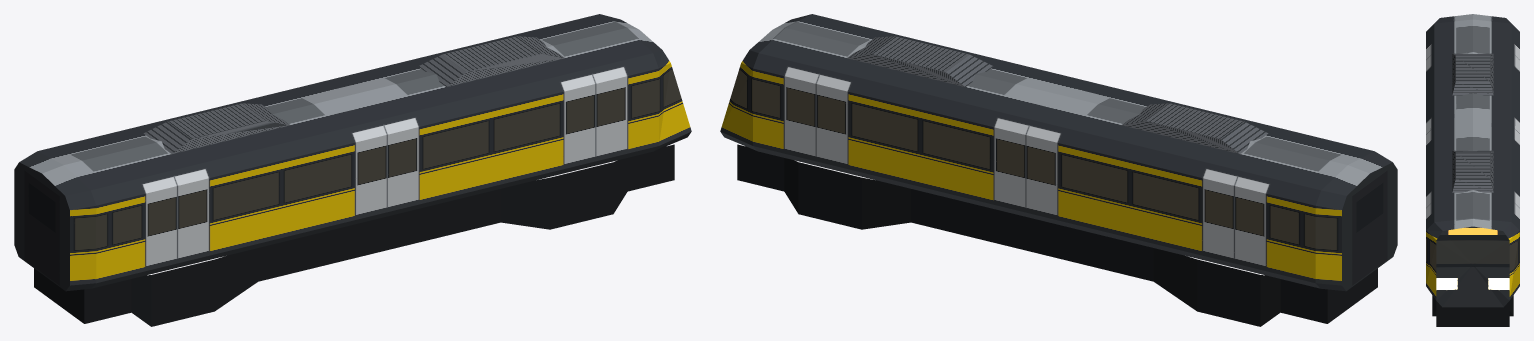
The model's file is bvg_kleinprofil__cab.glb.
3 renders of one model, left to right at view 1: azimuth 30°, elevation 25°; view 2: azimuth 150°, elevation 25°; view 3: azimuth 270°, elevation 25°, orthographic. The views are drawn at different scales.
Parts seen in each view (by area): view 1: bvg_kleinprofil__cab; view 2: bvg_kleinprofil__cab; view 3: bvg_kleinprofil__cab.
Boxes of the visible parts, x1=… form: bvg_kleinprofil__cab: x1=14, y1=14, x2=691, y2=326; bvg_kleinprofil__cab: x1=720, y1=14, x2=1397, y2=326; bvg_kleinprofil__cab: x1=1426, y1=14, x2=1519, y2=326.
Bounding box in the file's own units: 12.8 × 3.18 × 2.3.
1 material, 1 textured.
